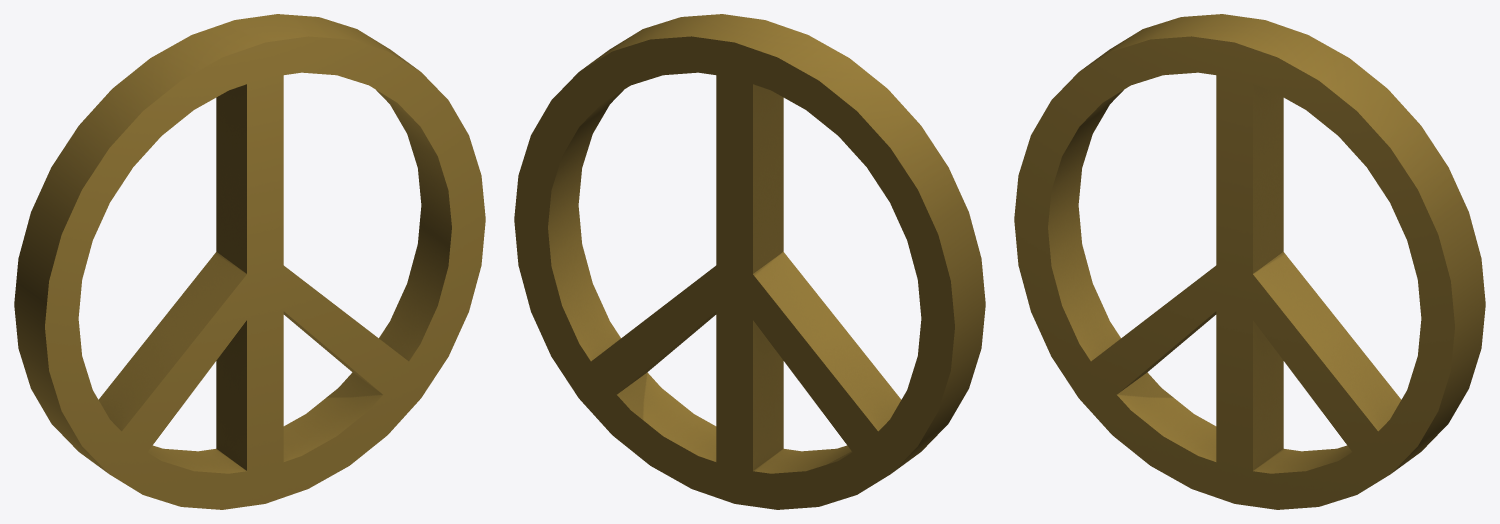
Rendered from piece_mark.glb.
3 views of the same model, side by side, from view 1: azimuth 30°, elevation 25°; view 2: azimuth 150°, elevation 25°; view 3: azimuth 330°, elevation 25° (orthographic).
Parts seen in each view (by area): view 1: piece; view 2: piece; view 3: piece.
Part boxes in pixels (x1=…): piece: x1=14, y1=14, x2=485, y2=509; piece: x1=514, y1=14, x2=985, y2=509; piece: x1=1014, y1=14, x2=1485, y2=509.
Size of the model in its own units: 0.0509 by 0.0509 by 0.00613.
1 material, 1 textured.
